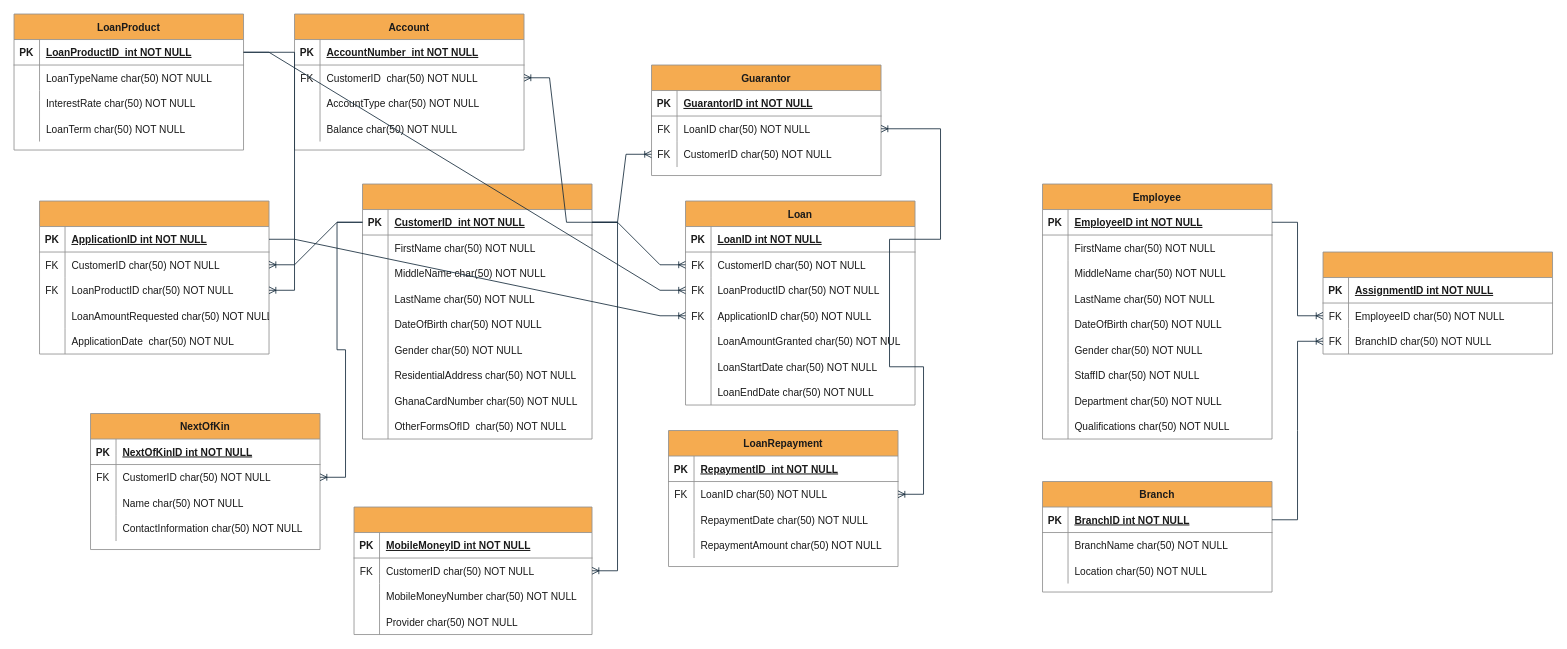
The diagram is 1567 pixels wide and 649 high, and some of its shapes have lost their labels. The shapes that lost their labels are listed below. From the top down, each one's box as (x1, y1, x2, y2) in pixels, then its label:
(39, 200, 269, 354): LoanApplication
(362, 183, 592, 439): Customers
(1322, 251, 1553, 354): EmployeeBranchAssignment
(353, 506, 592, 635): MobileMoneyAccount
